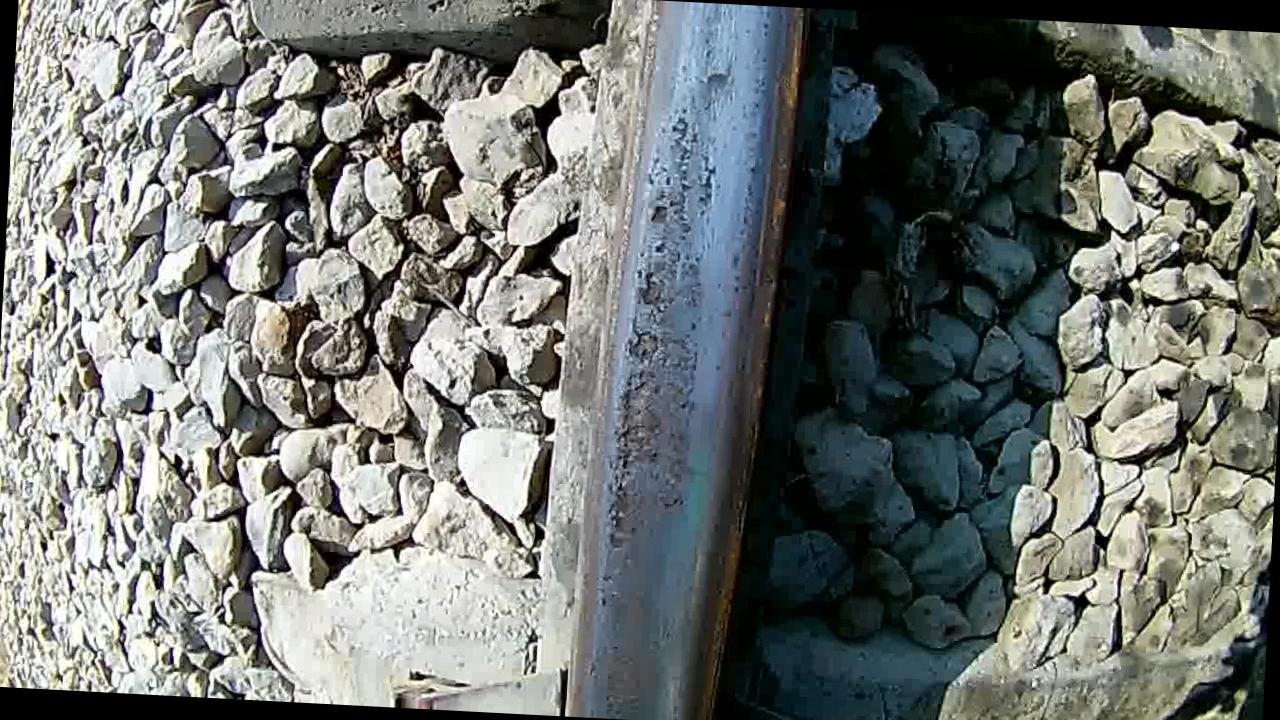crack: (585, 0, 787, 720)
